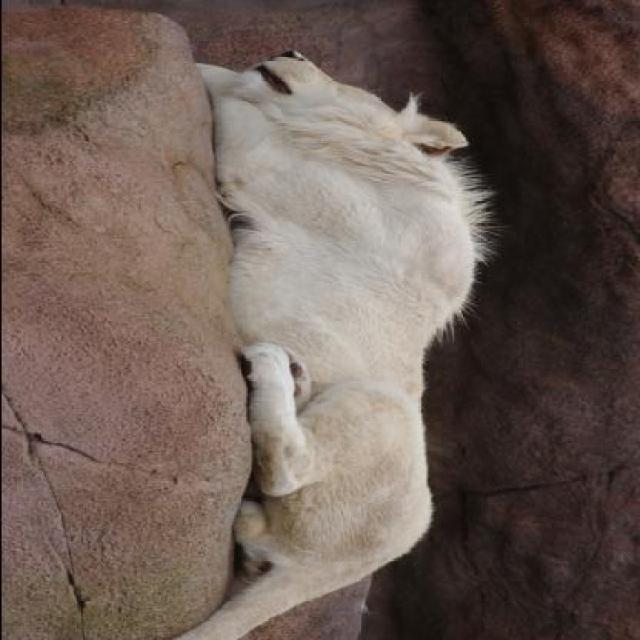Lion: (72, 24, 511, 638)
